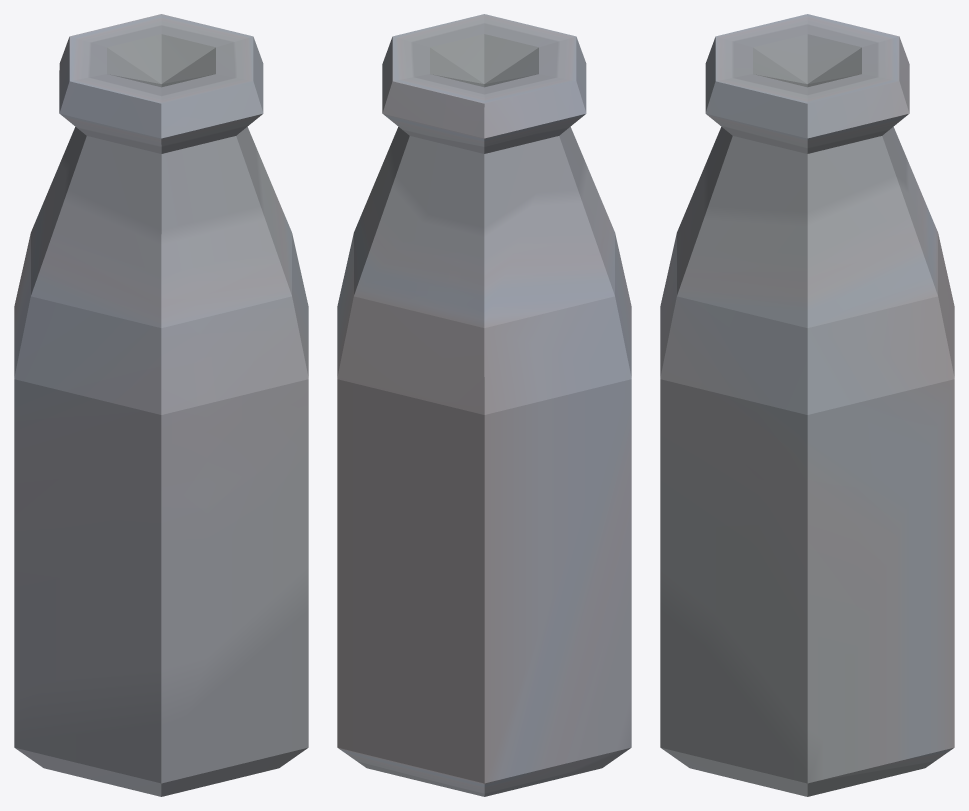
File: SM_Prop_Milk_Bottle_01.glb
3 views of the same model, side by side, from view 1: azimuth 30°, elevation 25°; view 2: azimuth 150°, elevation 25°; view 3: azimuth 270°, elevation 25° (orthographic).
Visible parts, largest first — view 1: SM_Prop_Milk_Bottle_01; view 2: SM_Prop_Milk_Bottle_01; view 3: SM_Prop_Milk_Bottle_01.
Boxes of the visible parts, x1,y1,x2,y2 form: SM_Prop_Milk_Bottle_01: [14, 14, 308, 796]; SM_Prop_Milk_Bottle_01: [337, 14, 631, 796]; SM_Prop_Milk_Bottle_01: [660, 14, 954, 796].
Size of the model in its own units: 9.92 by 21.9 by 8.59.
Materials: 1 (1 with a texture image).
